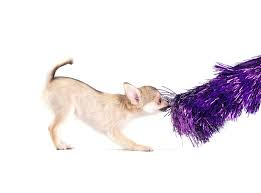chihuahua: (41, 56, 170, 151)
